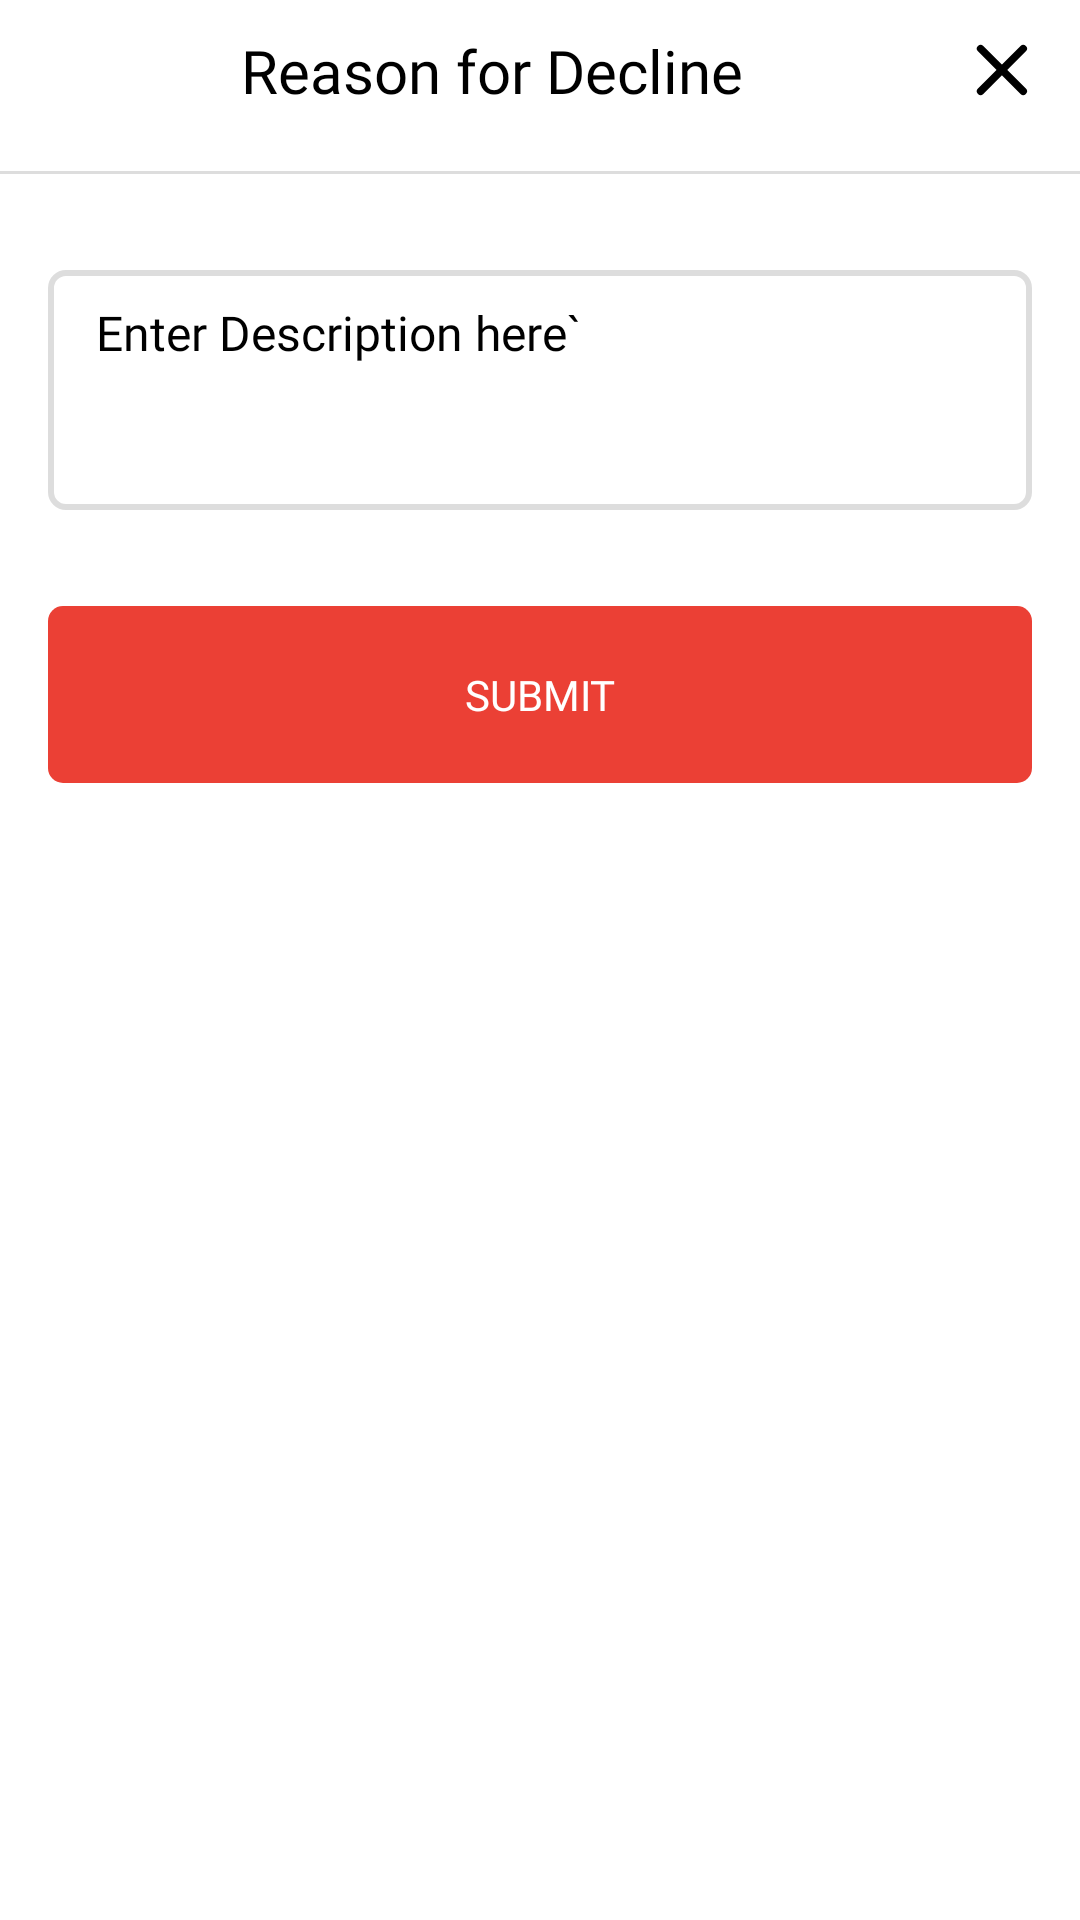

Icons on this 1080 x 1920 Android screen, each with its box as (x1, y1, x2, y2):
close: (976, 44, 1028, 96)
